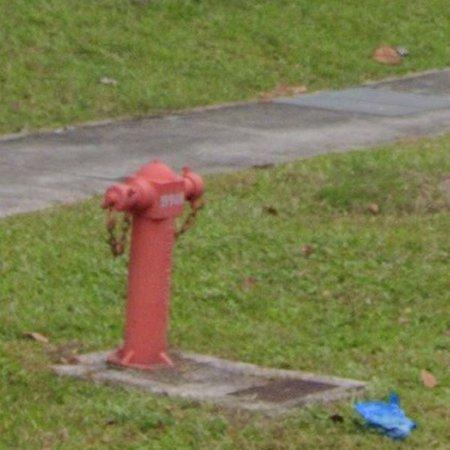a fire hydrant: (102, 161, 205, 369)
